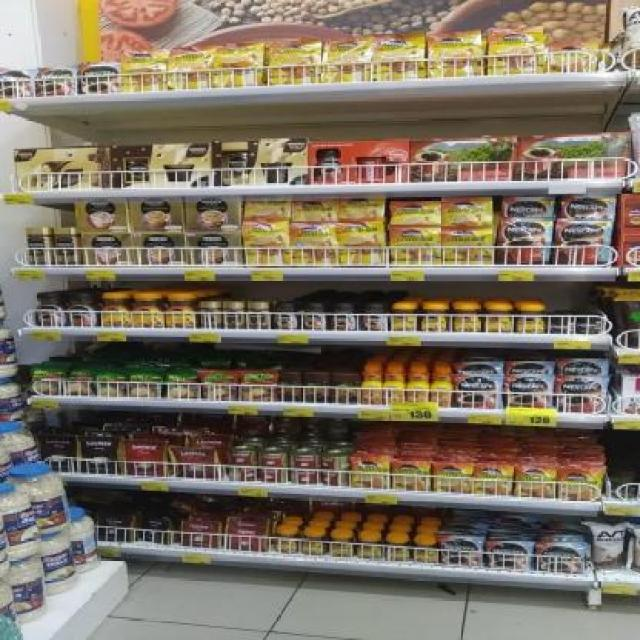Coffee: (427, 31, 484, 78), (490, 30, 544, 75), (242, 219, 292, 267), (498, 219, 550, 264), (560, 220, 612, 265), (374, 34, 424, 80), (288, 221, 338, 267), (322, 38, 370, 84), (271, 39, 320, 84), (214, 44, 263, 87), (338, 222, 385, 266), (390, 225, 441, 264), (441, 227, 494, 264), (120, 50, 167, 91), (170, 47, 214, 90), (504, 375, 554, 411), (557, 377, 608, 412), (454, 375, 501, 408), (536, 542, 584, 572), (485, 540, 530, 569), (561, 469, 602, 500), (441, 536, 482, 567), (36, 68, 78, 95), (393, 461, 432, 490), (131, 294, 164, 328), (99, 294, 130, 328), (518, 468, 554, 497), (351, 458, 387, 487), (80, 65, 118, 92), (34, 292, 64, 326), (66, 293, 96, 327), (435, 463, 470, 492), (476, 465, 512, 493), (480, 304, 514, 333), (0, 70, 35, 98), (167, 294, 195, 328), (54, 227, 78, 265), (359, 303, 389, 332), (388, 303, 418, 332), (328, 303, 359, 331), (516, 303, 544, 334), (450, 305, 482, 332), (418, 305, 450, 332), (406, 366, 429, 402), (28, 228, 50, 264), (362, 365, 381, 406), (433, 367, 452, 408), (385, 366, 404, 406), (301, 302, 328, 330), (299, 528, 326, 555), (384, 536, 413, 561), (196, 301, 222, 328), (272, 528, 298, 554), (328, 532, 354, 557), (220, 302, 244, 329), (246, 302, 270, 329), (274, 302, 298, 329), (414, 539, 440, 563), (356, 535, 381, 559), (575, 317, 600, 333), (550, 316, 573, 333)
